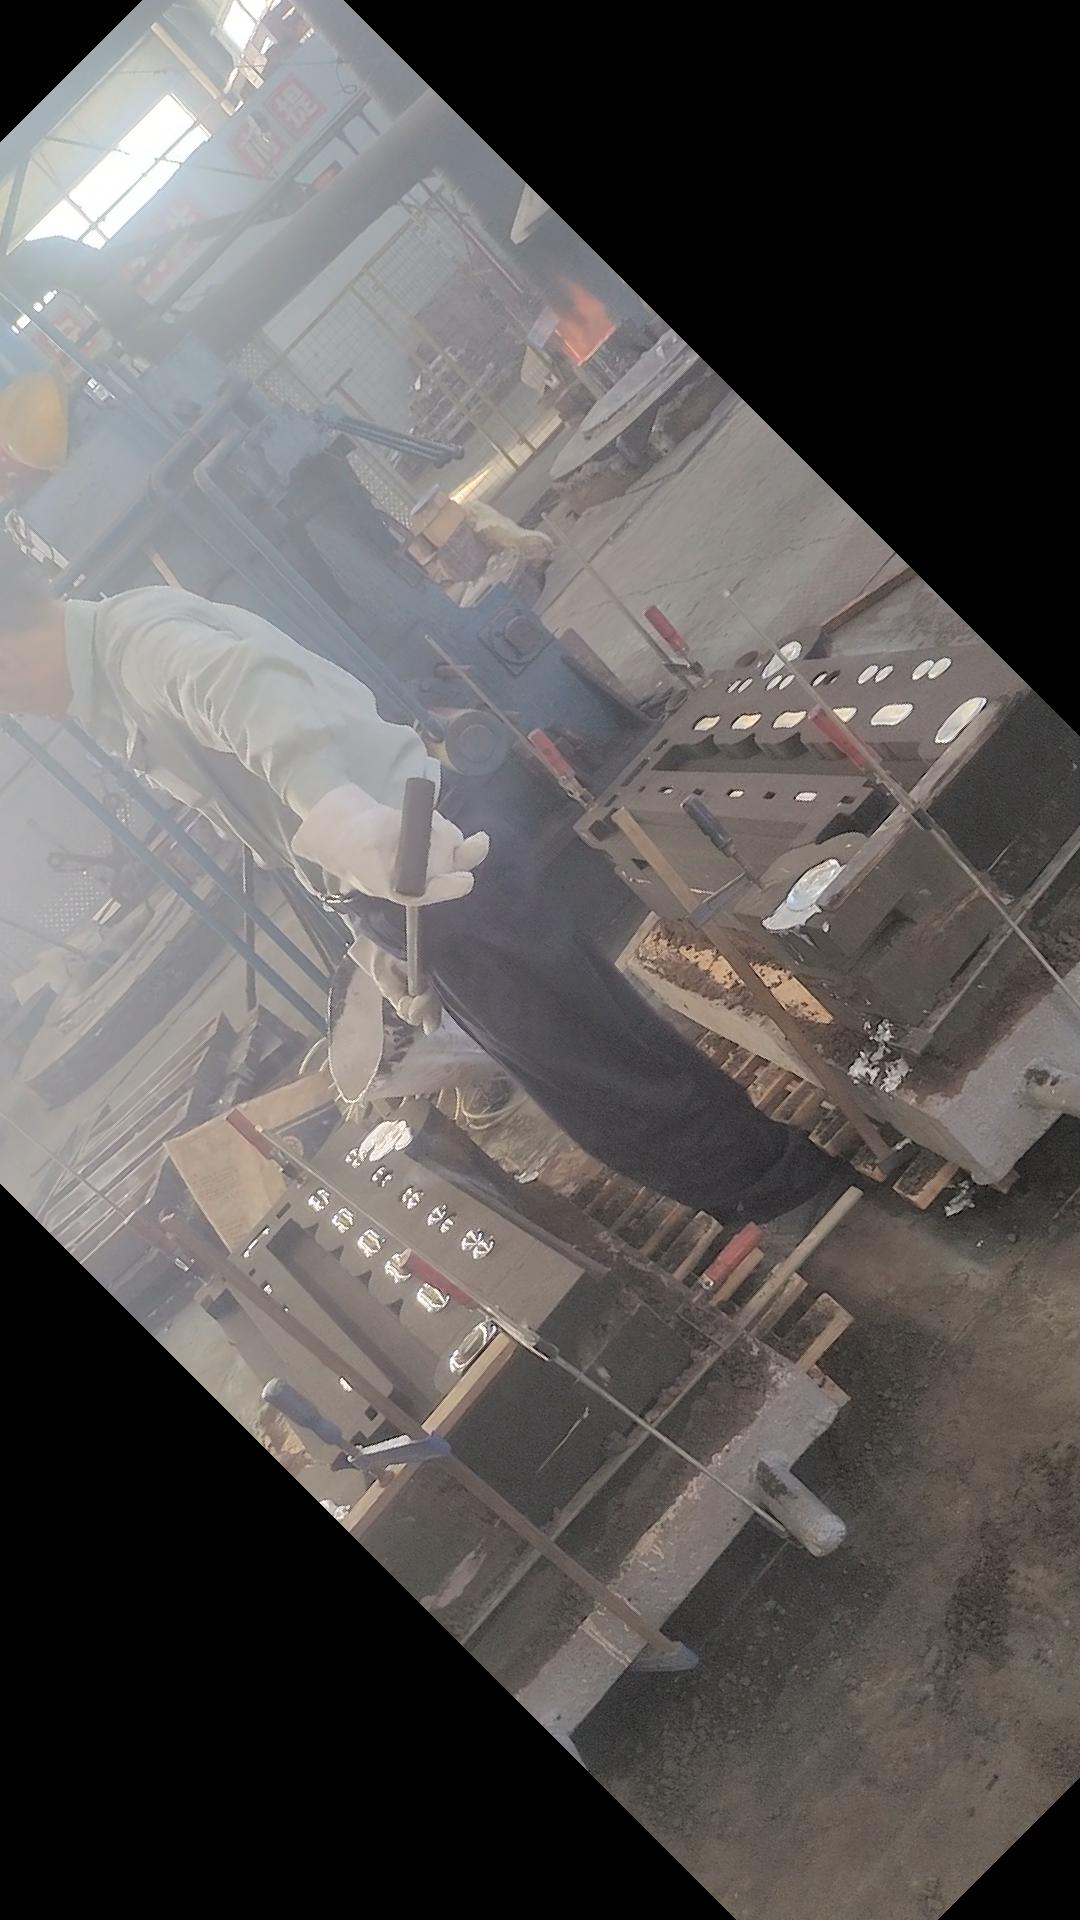pouring hole: (789, 857, 841, 913), (761, 640, 803, 682), (309, 1494, 349, 1530), (367, 1120, 406, 1153)
